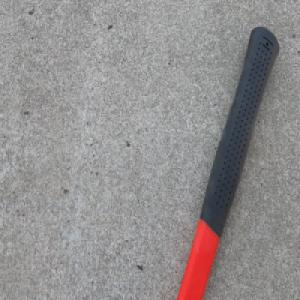Hammer: (175, 24, 280, 300)
